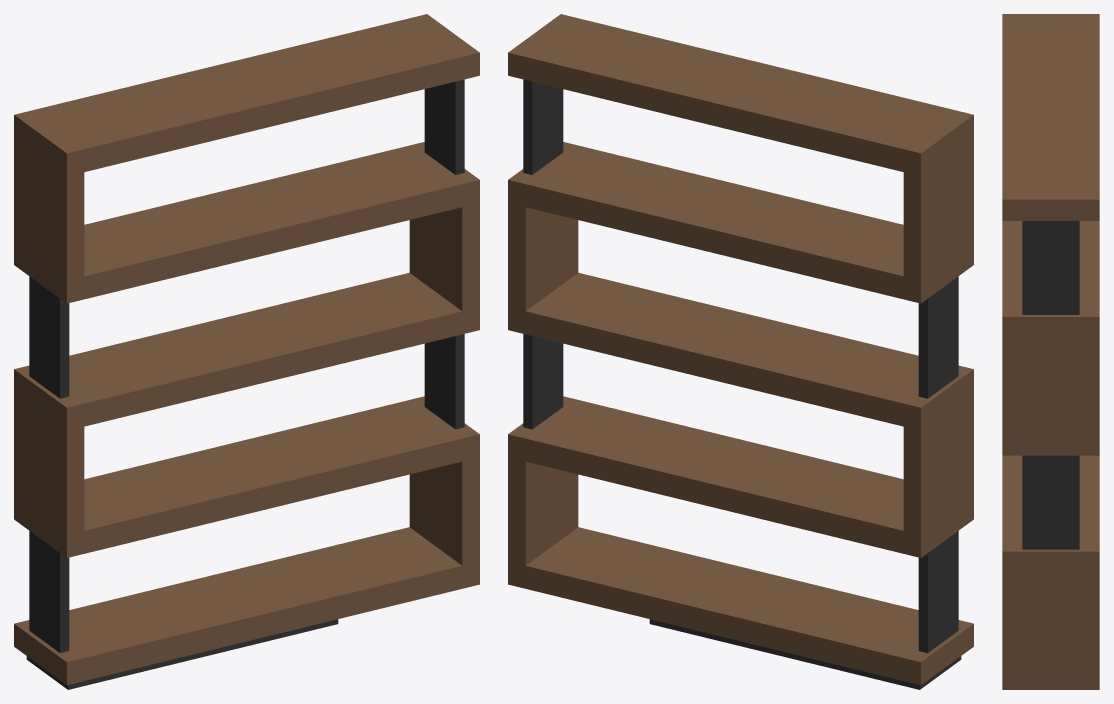
The model's file is shelf_10.glb.
The picture shows the model from 3 angles, left to right: view 1: azimuth 30°, elevation 25°; view 2: azimuth 150°, elevation 25°; view 3: azimuth 270°, elevation 25°; orthographic projection. The views are drawn at different scales.
Visible parts, largest first — view 1: Modern Shelves; view 2: Modern Shelves; view 3: Modern Shelves.
Part boxes in pixels (left/top/right/bottom): Modern Shelves: left=14, top=14, right=479, bottom=689; Modern Shelves: left=508, top=14, right=973, bottom=689; Modern Shelves: left=1002, top=14, right=1099, bottom=689.
Bounding box in the file's own units: 1.24 × 1.56 × 0.2757.
1 material, 1 textured.
